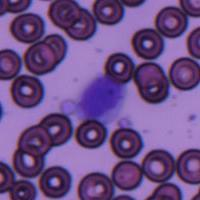M: (76, 74, 126, 120)
